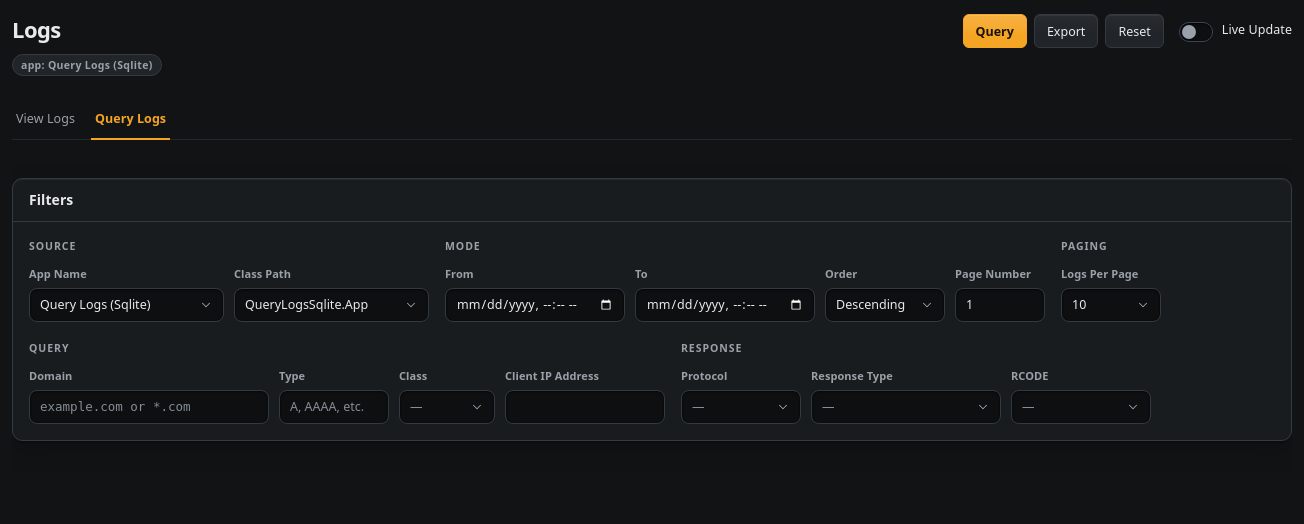
Test: Logs › Query Logs: the table › a server error comes out as an alert and does not wipe the previous table
The width and height of the screenshot is (1304, 524).
Expected: the dropdown named "App Name" is shown, [29, 288, 224, 322]
Click the button "Query".
click(995, 31)  # box [962, 14, 1027, 48]
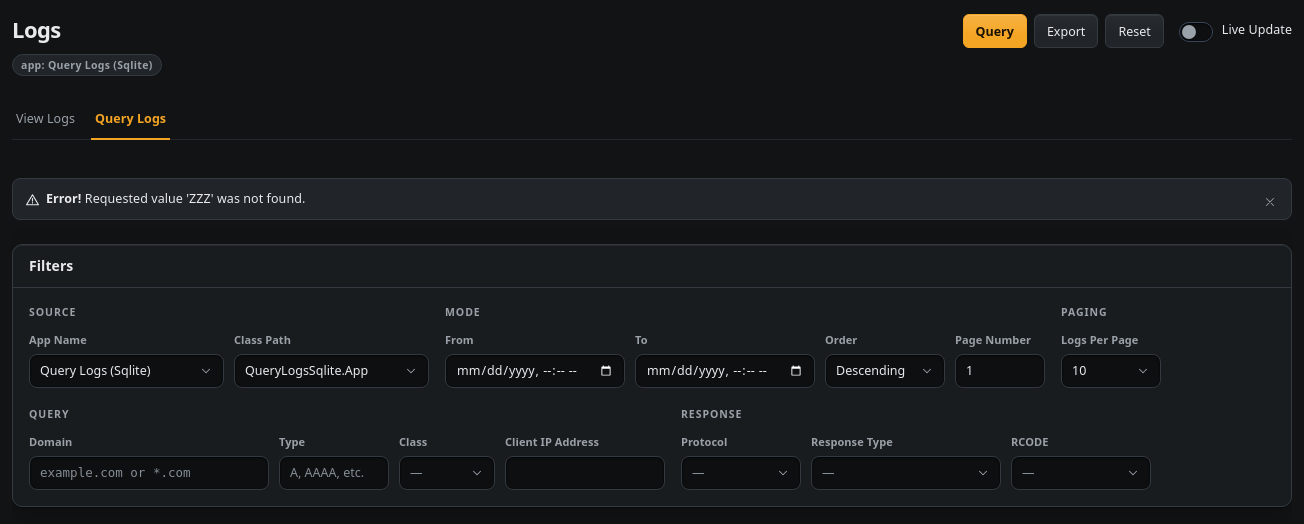
Now the text "Requested value 'ZZZ' was not found." is shown, box [85, 190, 305, 207]
